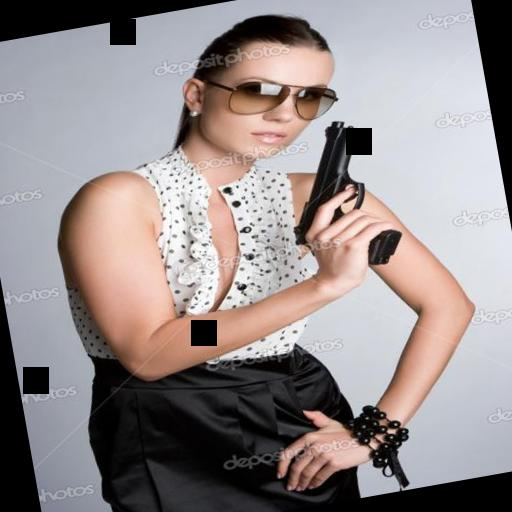Handgun: (268, 111, 403, 286)
